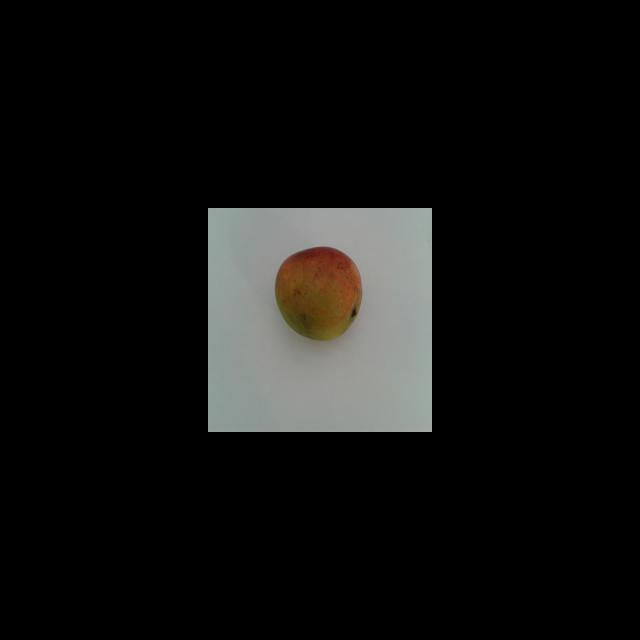Mango: (274, 245, 362, 340)
